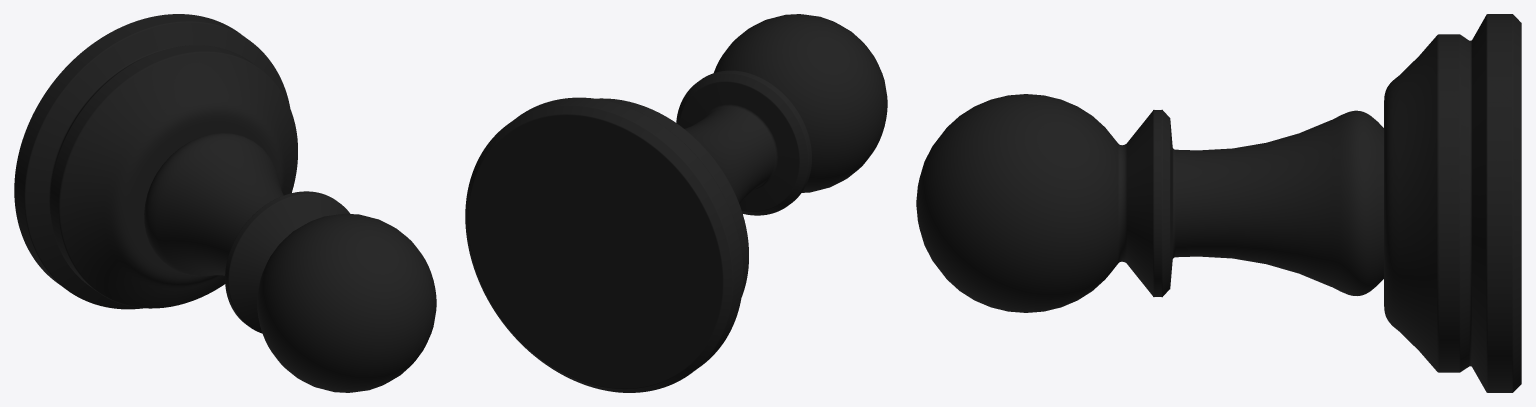
File: Pawn_B.obj
The picture shows the model from 3 angles, left to right: view 1: azimuth 30°, elevation 25°; view 2: azimuth 150°, elevation 25°; view 3: azimuth 270°, elevation 25°; orthographic projection. The views are drawn at different scales.
Parts seen in each view (by area): view 1: Body1; view 2: Body1; view 3: Body1.
Part boxes in pixels (x1,y1,x2,y2): Body1: [14, 14, 436, 392]; Body1: [465, 14, 887, 392]; Body1: [916, 14, 1521, 392].
Bounding box in the file's own units: 0.0386 × 0.0386 × 0.0617.
1 material, 1 textured.
